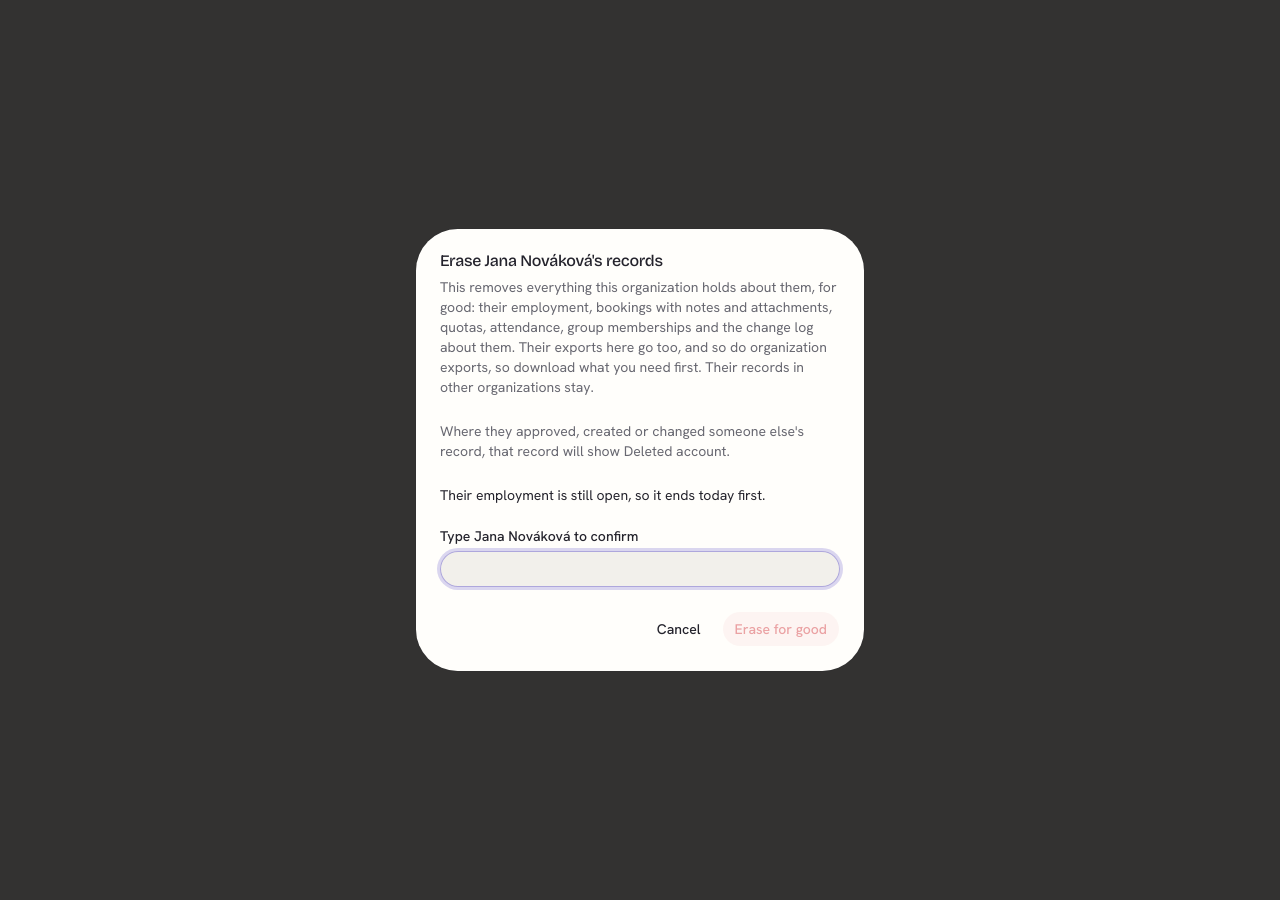
it: EraseDialog › says so when the server finds the name wrong
Type "Jana Nováková" into the field labelled "Type Jana Nováková to confirm" at (640, 569), box [440,551,840,587]
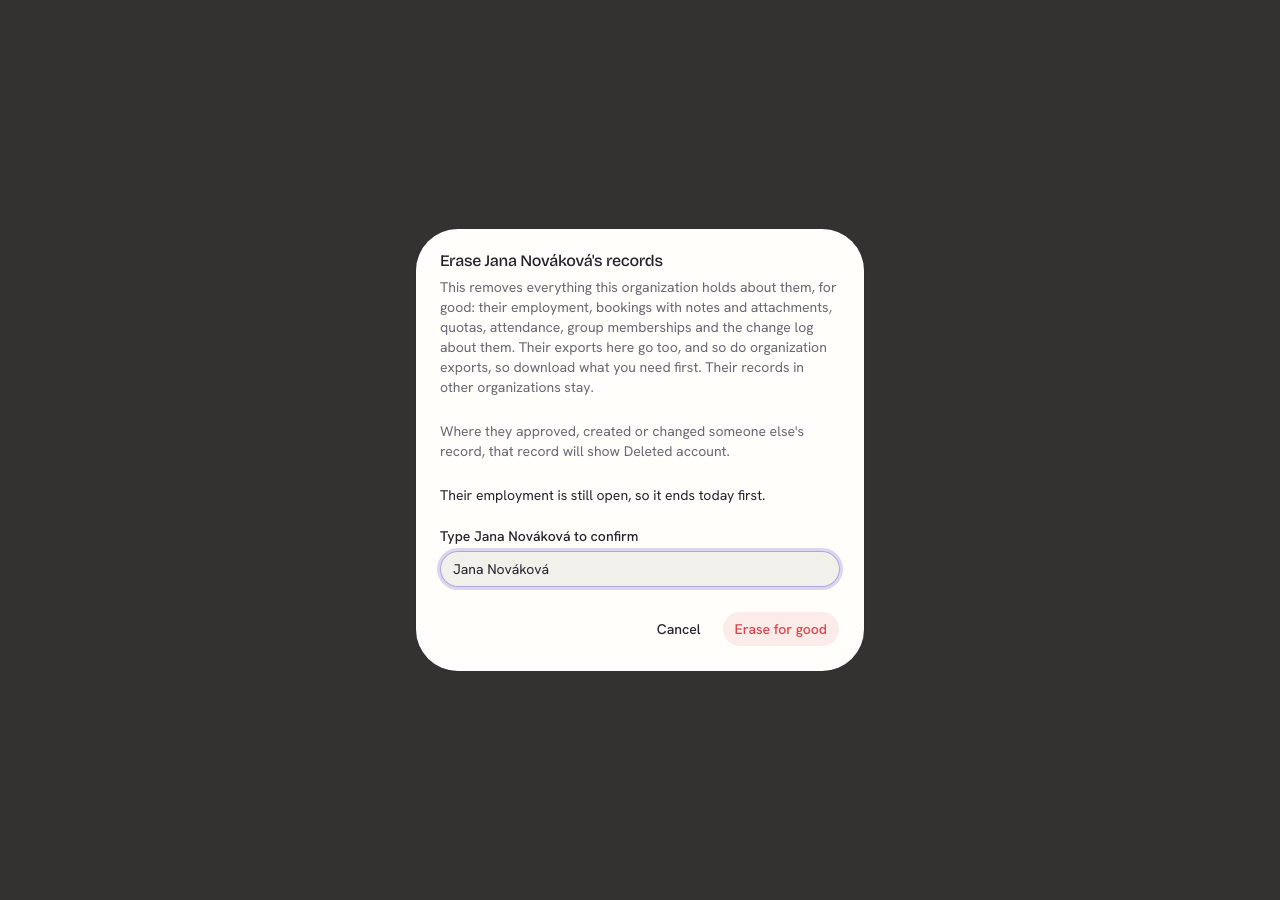
Click the button "Erase for good" at (781, 629), box [722,611,840,647]
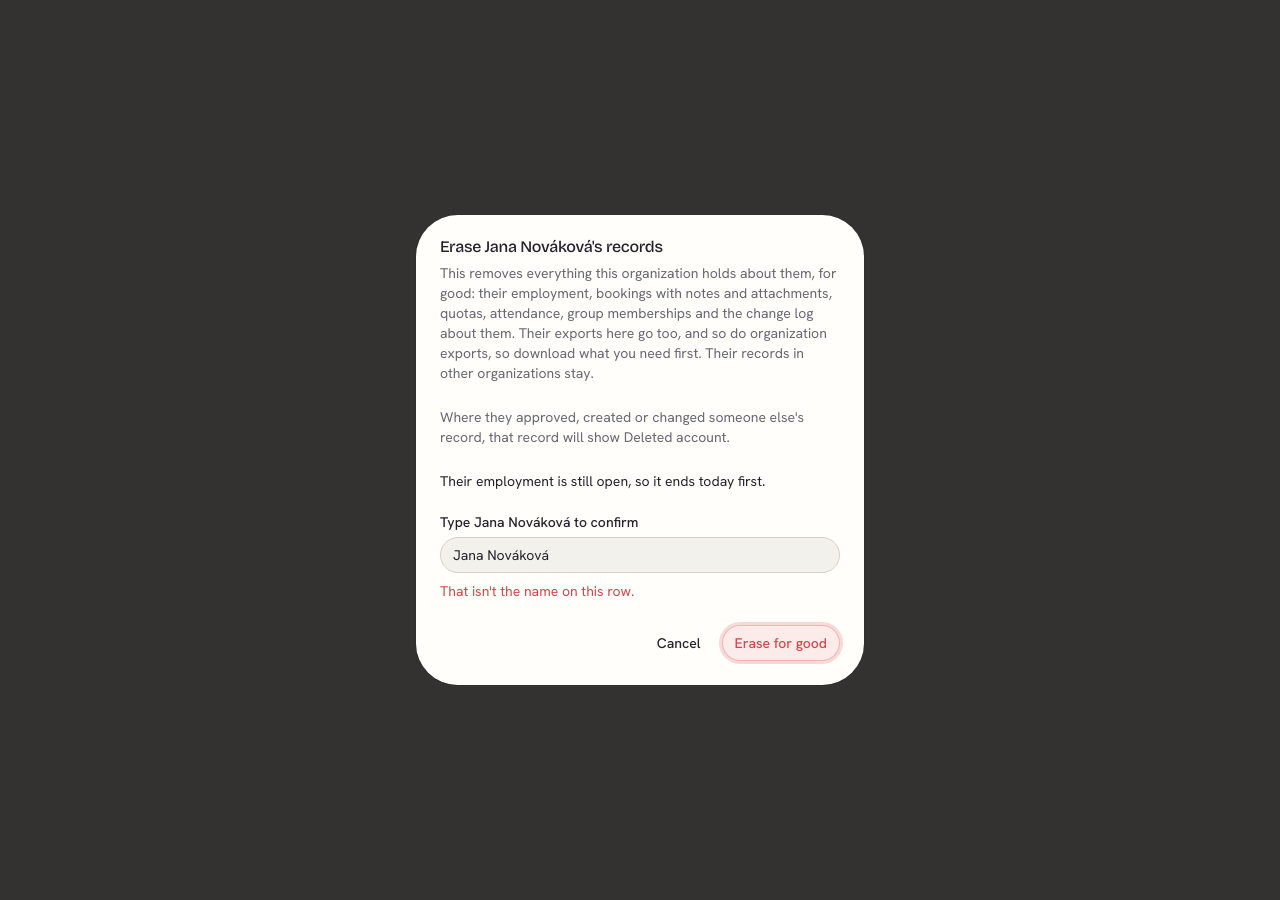
Now the text "That isn't the name on this row." is shown, box [440,582,634,600]
